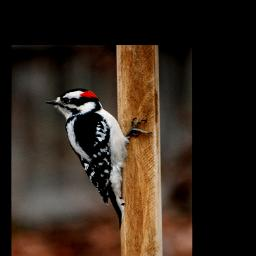Woodpecker: (45, 88, 152, 228)
